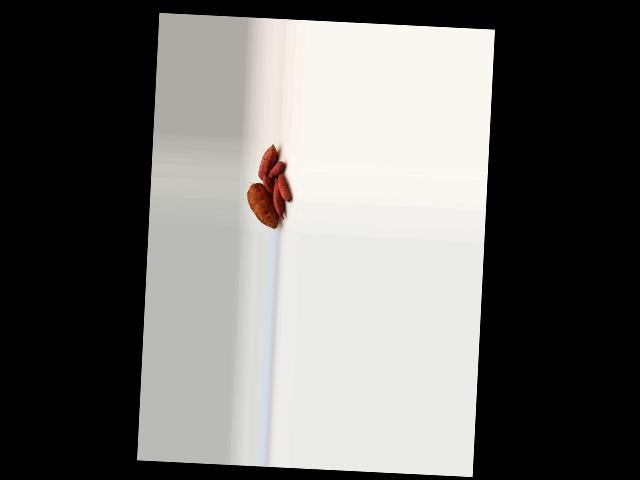sweet_potato: (258, 142, 277, 180)
